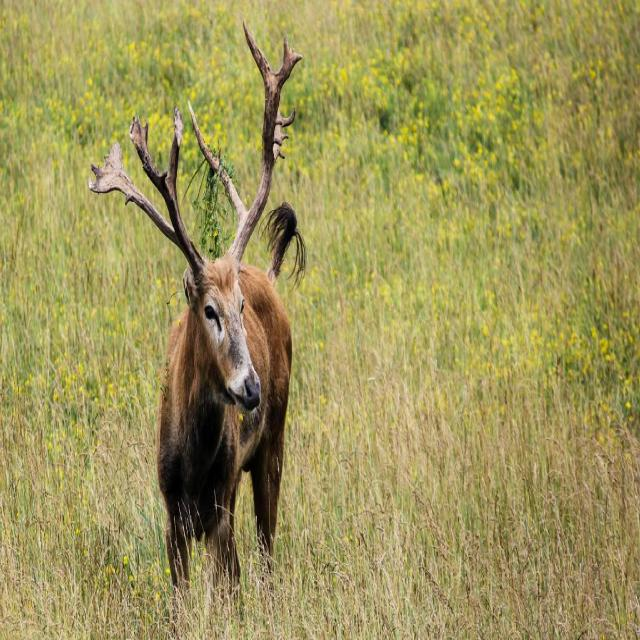Deer: (91, 22, 304, 640)
